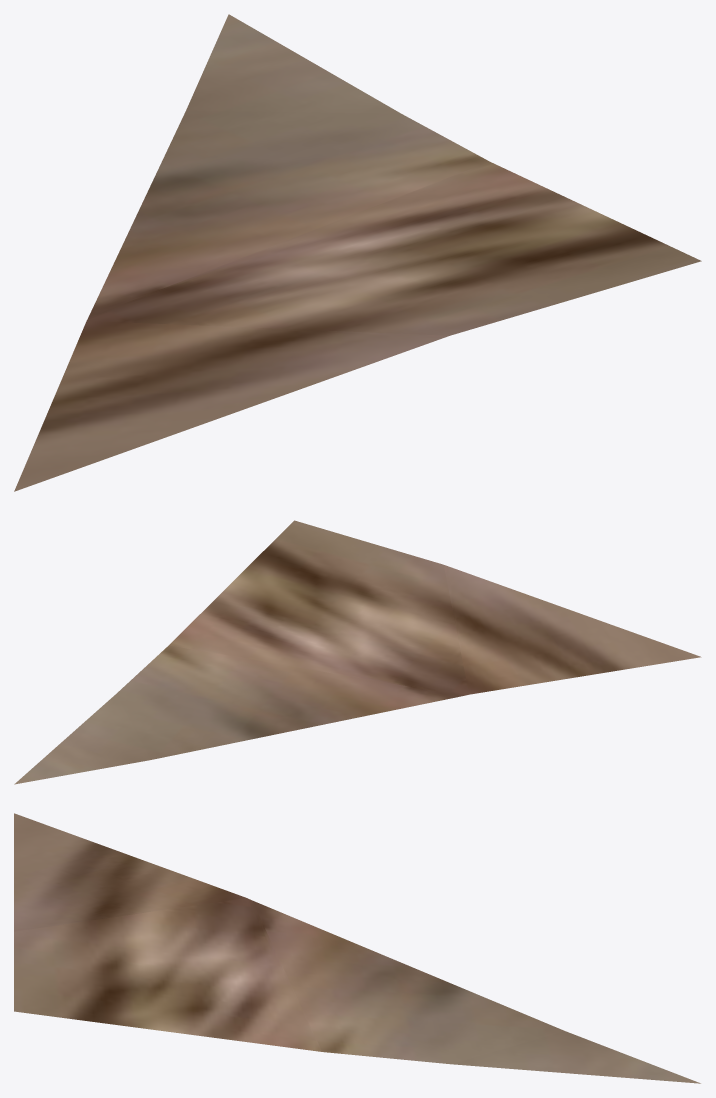
3 renders of one model, top to bottom at view 1: azimuth 30°, elevation 25°; view 2: azimuth 150°, elevation 25°; view 3: azimuth 270°, elevation 25°, orthographic. The views are drawn at different scales.
Bounding box in the file's own units: 0.5339 × 0.0737 × 0.6361.
1 material, 1 textured.
